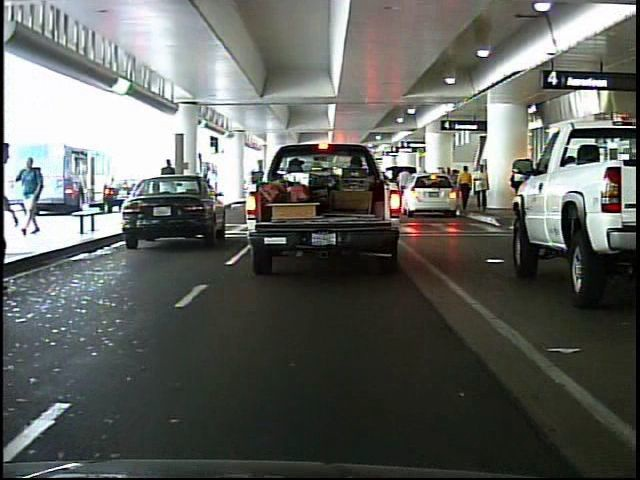person: (17, 154, 52, 238), (156, 154, 182, 219), (451, 160, 473, 220)
